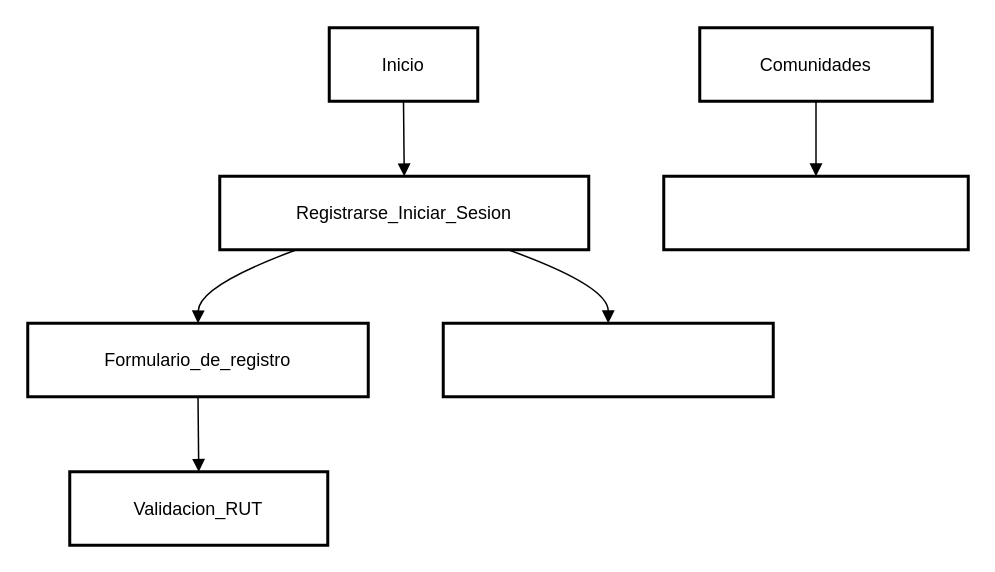
This 995x572 diagram has some shape labels left out. Each missing label, with the centre of its shape:
"Formulario_de_acceso" goes at (x=607, y=359).
"Listar_Comunidades" goes at (x=815, y=212).
